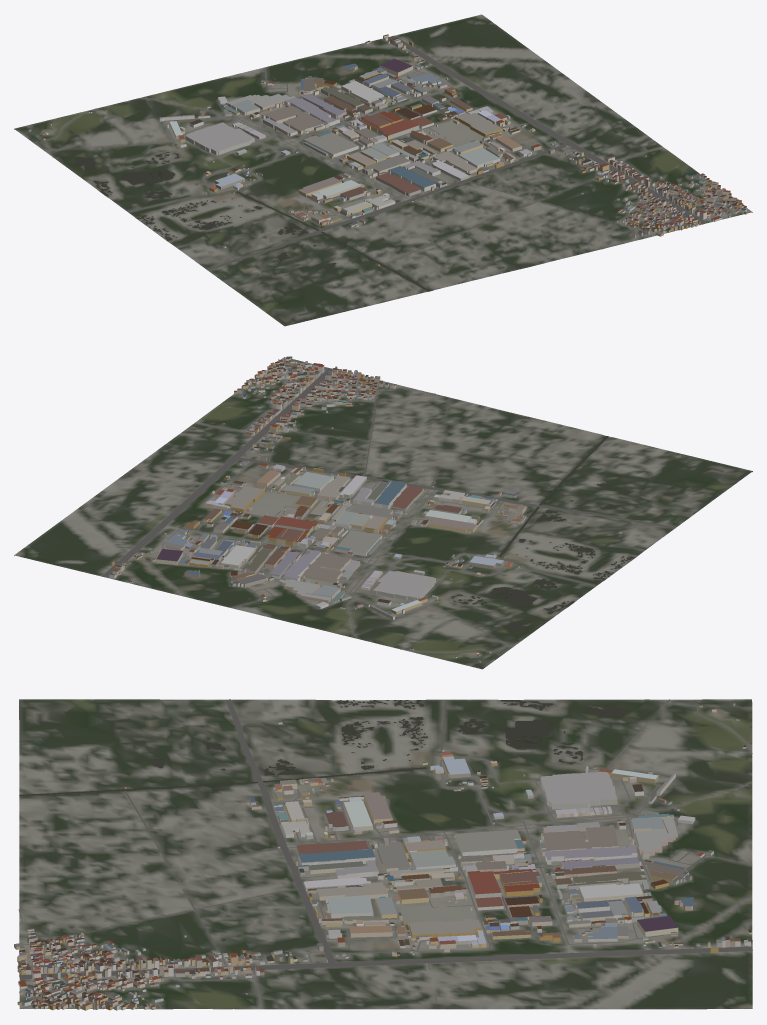
The picture shows the model from 3 angles, top to bottom: view 1: azimuth 30°, elevation 25°; view 2: azimuth 150°, elevation 25°; view 3: azimuth 270°, elevation 25°; orthographic projection. The views are drawn at different scales.
Parts seen in each view (by area): view 1: ground, buildings, roads, water; view 2: ground, buildings, roads, water; view 3: ground, buildings, roads, water.
Boxes of the visible parts, x1,y1,x2,y2 form: ground: (14, 14, 752, 326); buildings: (28, 34, 747, 265); roads: (44, 35, 750, 270); water: (74, 152, 429, 291); ground: (14, 357, 752, 669); buildings: (109, 356, 621, 662); roads: (102, 357, 676, 652); water: (451, 436, 634, 631); ground: (19, 699, 752, 1009); buildings: (14, 703, 751, 1010); roads: (18, 699, 752, 1009); water: (19, 700, 629, 796).
Size of the model in its own units: 1410 by 24.56 by 1413.
